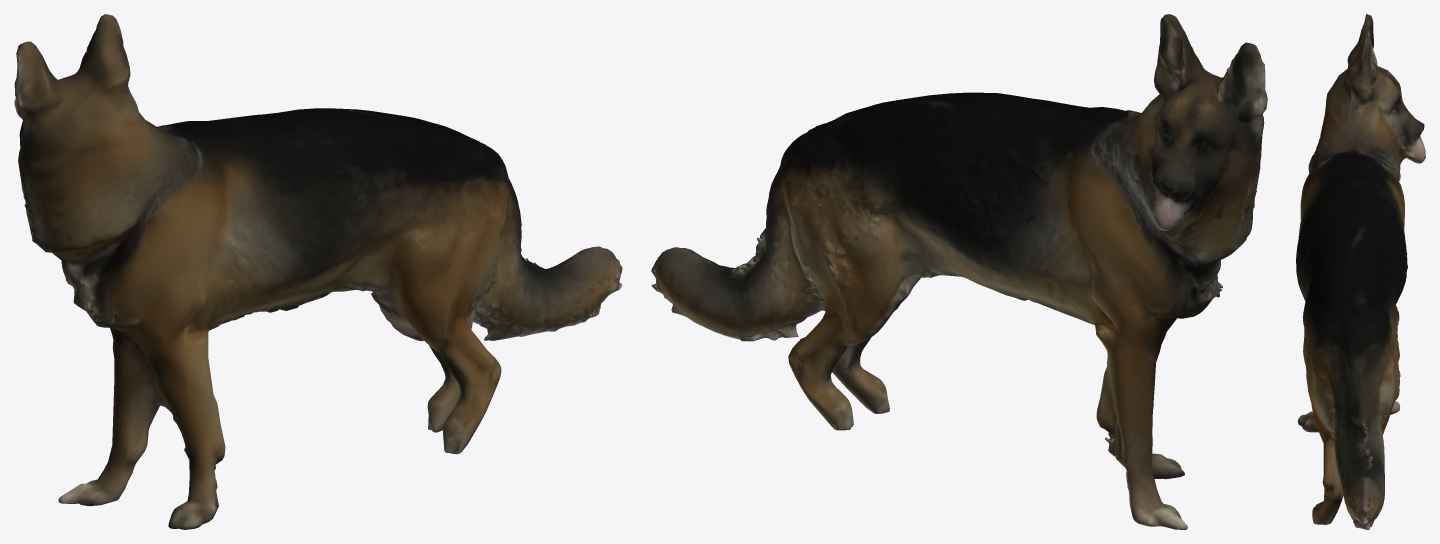
The model's file is afu-v3.glb.
The picture shows the model from 3 angles, left to right: view 1: azimuth 30°, elevation 25°; view 2: azimuth 150°, elevation 25°; view 3: azimuth 270°, elevation 25°; orthographic projection. The views are drawn at different scales.
Parts seen in each view (by area): view 1: world; view 2: world; view 3: world.
Boxes of the visible parts, <box> form: world: <box>14,14,622,529</box>; world: <box>651,14,1267,529</box>; world: <box>1296,14,1425,529</box>.
Bounding box in the file's own units: 1 × 0.7746 × 0.2461.
Materials: 1 (1 with a texture image).
